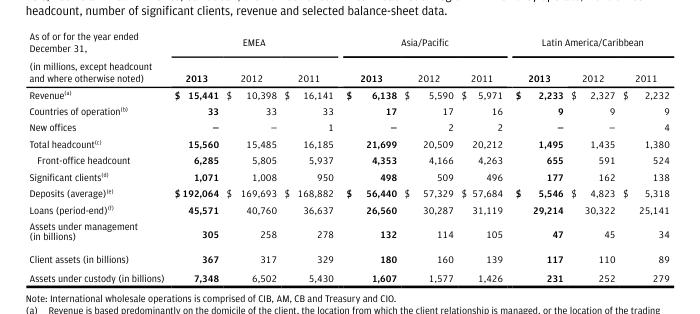table: (28, 29, 668, 283)
table column: (28, 29, 168, 283), (279, 29, 339, 283), (339, 29, 399, 283), (221, 29, 279, 283), (508, 29, 566, 283), (399, 29, 456, 283), (168, 29, 221, 283), (456, 29, 508, 283), (566, 29, 618, 283), (618, 29, 668, 283)
table column header: (28, 29, 668, 85)
table row: (28, 29, 668, 59), (28, 217, 668, 246), (28, 59, 668, 85), (28, 246, 668, 267), (28, 85, 668, 102), (28, 118, 668, 135), (28, 167, 668, 184), (28, 200, 668, 217), (28, 102, 668, 118), (28, 135, 668, 151), (28, 151, 668, 167), (28, 184, 668, 200), (28, 267, 668, 283)
table spanning cell: (28, 29, 168, 85), (168, 29, 339, 59), (339, 29, 508, 59), (508, 29, 668, 59)
